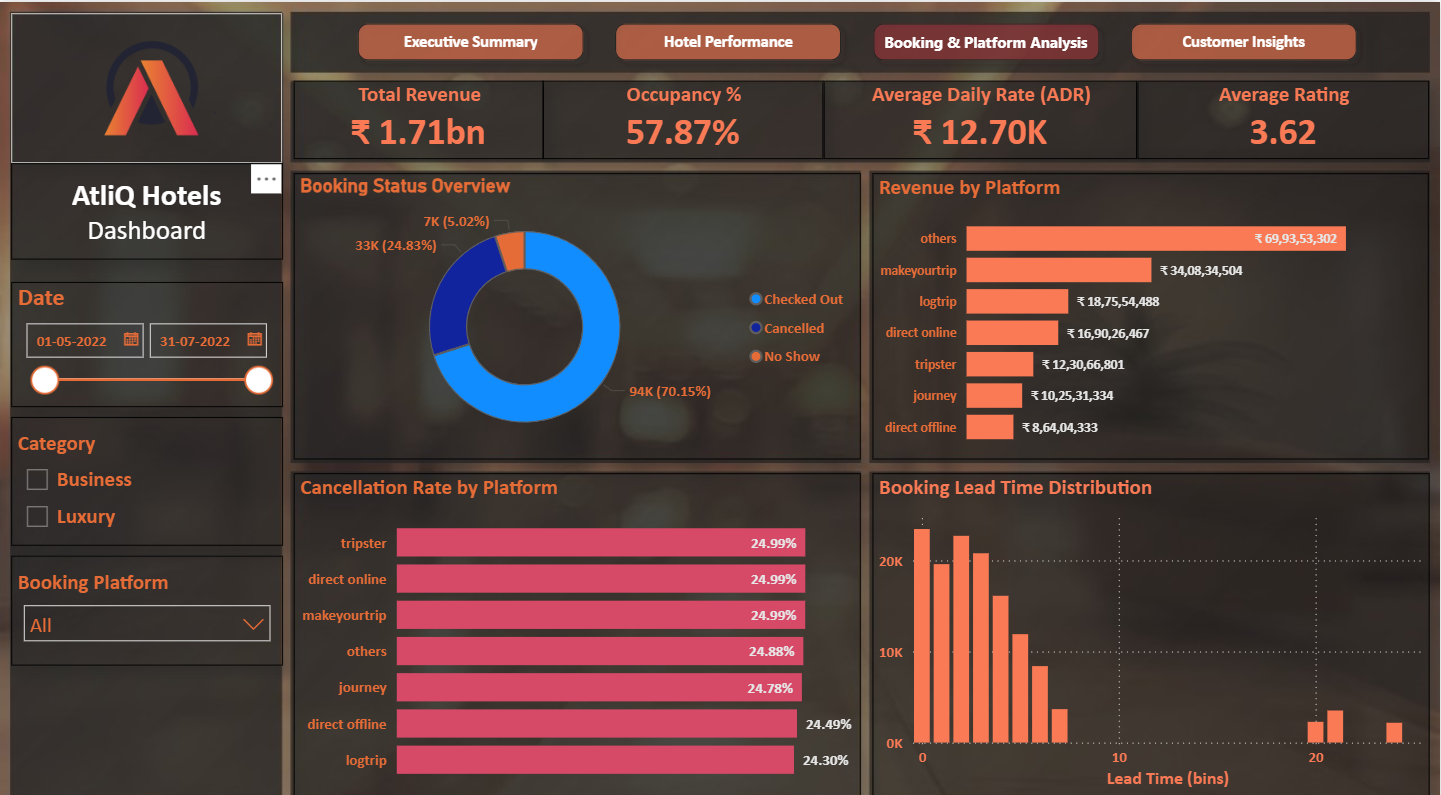

This screenshot's page, from the dashboard's own definition file:
{"tool":"powerbi","page":{"name":"Booking & Platform Analysis","canvas":[1280,720],"ordinal":2},"visuals":[{"type":"image","box":[9.7,9.7,241.3,133.9],"z":0},{"type":"textbox","box":[9.7,143.6,241.3,85.7],"z":1000},{"type":"card","title":"Total Revenue","fields":{"Values":[" Measures.Total Revenue"]},"box":[260.7,70,222.3,70],"z":2000},{"type":"card","title":"Occupancy %","fields":{"Values":[" Measures.Occupancy %"]},"box":[482.6,70,249.7,70],"z":3000},{"type":"card","title":"Average Daily Rate (ADR)","fields":{"Values":[" Measures.ADR(Average Daily Rate)"]},"box":[732.3,70,278.7,70],"z":4000},{"type":"card","title":"Average Rating","fields":{"Values":[" Measures.Average Rating"]},"box":[1011.3,70,259.3,70],"z":5000},{"type":"slicer","title":"Booking Platform","fields":{"Values":["fact_bookings.booking_platform"]},"box":[9.7,492.2,241.3,97.7],"z":6000},{"type":"slicer","title":"Date","fields":{"Values":["dim_date.date"]},"box":[9.7,248.5,241.3,111],"z":7000},{"type":"slicer","title":"Category","fields":{"Values":["dim_hotels.category"]},"box":[9.7,369.2,241.3,114.6],"z":8000},{"type":"donutChart","title":"Booking Status Overview","fields":{"Category":["fact_bookings.booking_status"],"Y":[" Measures.Total Bookings"]},"box":[260.6,152,504.3,254.6],"z":9000},{"type":"barChart","title":"Revenue by Platform","fields":{"Category":["fact_bookings.booking_platform"],"Y":[" Measures.Total Revenue"]},"box":[775.7,152,494.6,254.6],"z":10000},{"type":"barChart","title":"Cancellation Rate by Platform","fields":{"Category":["fact_bookings.booking_platform"],"Y":[" Measures.Cancellation Rate %"]},"box":[260.6,418.6,504.3,287.1],"z":11000},{"type":"columnChart","title":"Booking Lead Time Distribution","fields":{"Category":["fact_bookings.Lead Time (bins)"],"Y":[" Measures.Total Bookings"]},"box":[776,419,495,287],"z":12000},{"type":"pageNavigator","box":[308.8,9.7,906,51.9],"z":13000}]}

Visuals, with their boxes in screenshot pixels (x1, y1, x2, y2), scaled from the page's 1280x720 canvas onto the 1441x795 screenshot:
image: [x1=11, y1=11, x2=283, y2=159]
textbox: [x1=11, y1=159, x2=283, y2=253]
"Total Revenue" card: [x1=293, y1=77, x2=544, y2=155]
"Occupancy %" card: [x1=543, y1=77, x2=824, y2=155]
"Average Daily Rate (ADR)" card: [x1=824, y1=77, x2=1138, y2=155]
"Average Rating" card: [x1=1139, y1=77, x2=1430, y2=155]
"Booking Platform" slicer: [x1=11, y1=543, x2=283, y2=651]
"Date" slicer: [x1=11, y1=274, x2=283, y2=397]
"Category" slicer: [x1=11, y1=408, x2=283, y2=534]
"Booking Status Overview" donutChart: [x1=293, y1=168, x2=861, y2=449]
"Revenue by Platform" barChart: [x1=873, y1=168, x2=1430, y2=449]
"Cancellation Rate by Platform" barChart: [x1=293, y1=462, x2=861, y2=779]
"Booking Lead Time Distribution" columnChart: [x1=874, y1=463, x2=1431, y2=780]
pageNavigator: [x1=348, y1=11, x2=1368, y2=68]
